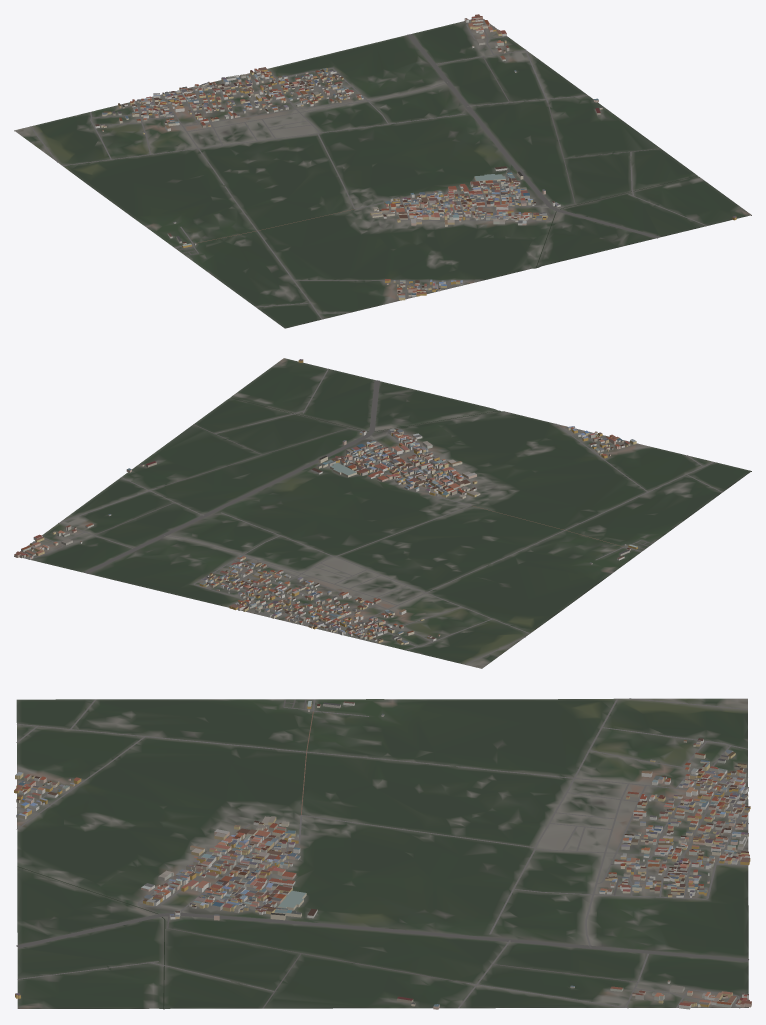
3 renders of one model, top to bottom at view 1: azimuth 30°, elevation 25°; view 2: azimuth 150°, elevation 25°; view 3: azimuth 270°, elevation 25°, orthographic. The views are drawn at different scales.
Parts seen in each view (by area): view 1: ground, buildings, roads; view 2: ground, buildings, roads; view 3: ground, buildings, roads.
Boxes of the visible parts, box(x1,y1,x2,y2) form: ground: box(14, 19, 751, 328); buildings: box(95, 14, 736, 300); roads: box(30, 19, 707, 319); ground: box(14, 358, 751, 668); buildings: box(14, 359, 637, 644); roads: box(24, 368, 722, 664); ground: box(16, 698, 748, 1009); buildings: box(14, 701, 751, 1009); roads: box(16, 698, 748, 1008).
Bounding box in the file's own units: 1407 × 16.21 × 1415.
